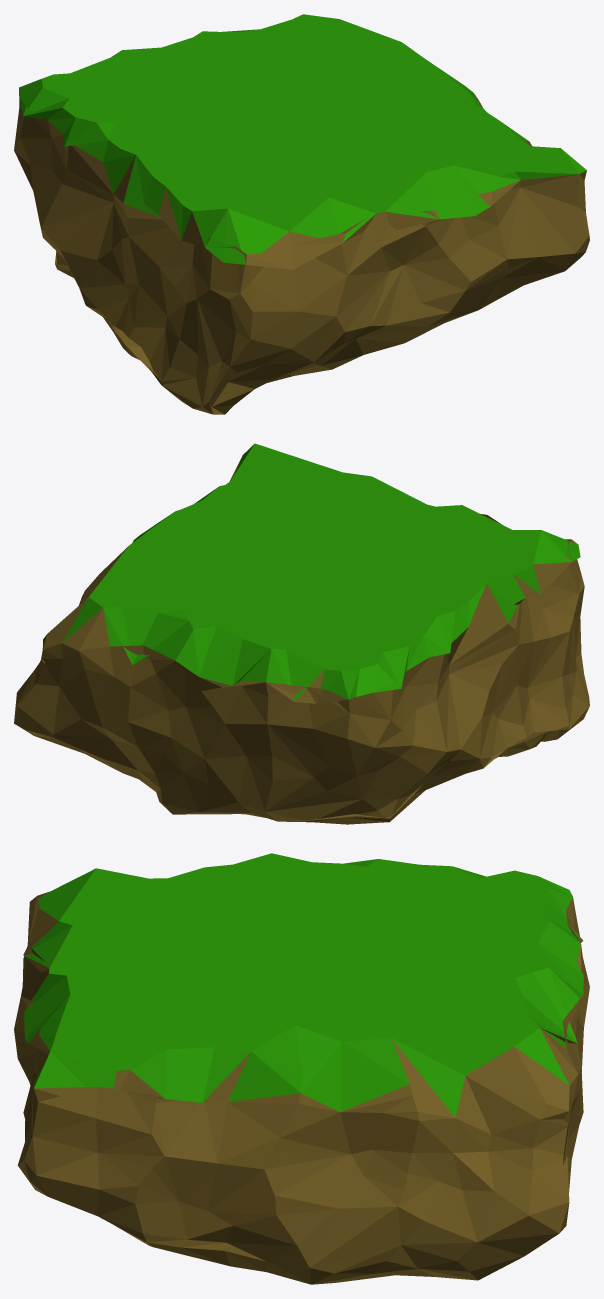
File: floor3.obj
The picture shows the model from 3 angles, top to bottom: view 1: azimuth 30°, elevation 25°; view 2: azimuth 150°, elevation 25°; view 3: azimuth 270°, elevation 25°; orthographic projection. The views are drawn at different scales.
Visible parts, largest first — view 1: Куб; view 2: Куб; view 3: Куб.
Boxes of the visible parts, x1,y1,x2,y2 form: Куб: (14,14,589,414); Куб: (14,443,589,824); Куб: (14,853,589,1284).
Size of the model in its own units: 5.69 by 2.89 by 5.77.
Materials: 1 (1 with a texture image).
